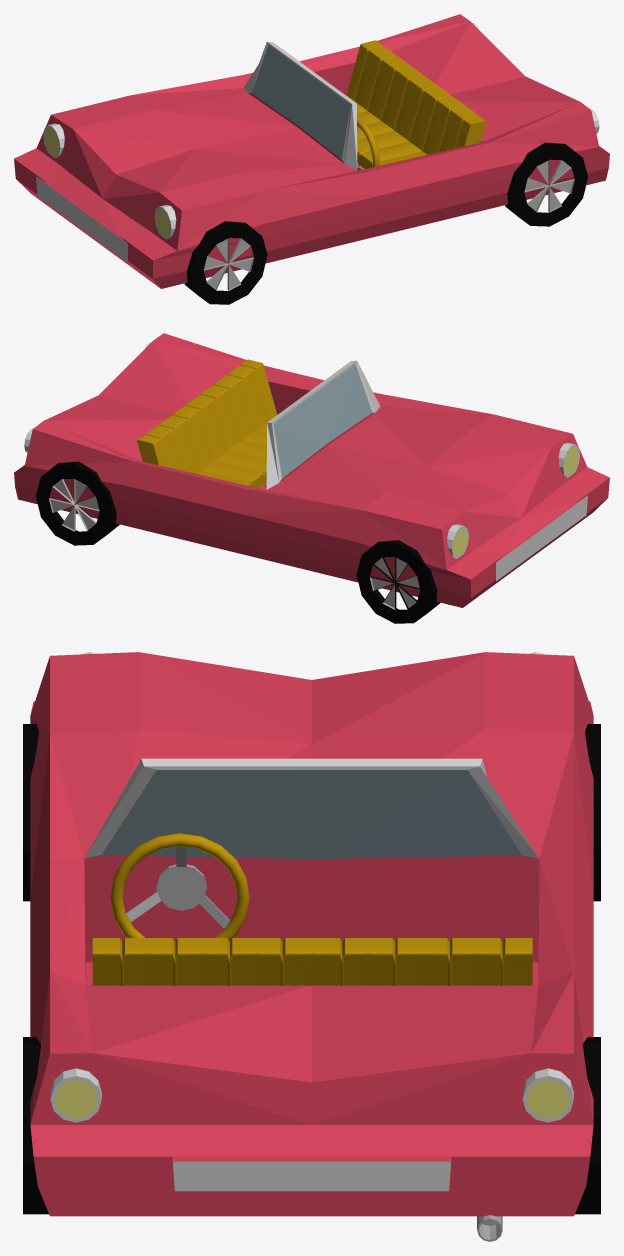
The model's file is car4.fbx.
3 views of the same model, one above another, from view 1: azimuth 30°, elevation 25°; view 2: azimuth 150°, elevation 25°; view 3: azimuth 270°, elevation 25° (orthographic). The views are drawn at different scales.
Parts seen in each view (by area): view 1: body, seatv3, seatv2, wheel2, wheel1, light1, light, pCylinder2; view 2: body, seatv2, seatv3, wheel2, wheel1, light, light1; view 3: body, seatv2, seatv3, pCylinder2, wheel2, wheel1, light2, light3.
Part boxes in pixels (x1,y1,x2,y2): body: (14,14,609,288); seatv3: (357,80,486,168); seatv2: (346,40,430,146); wheel2: (505,142,587,226); wheel1: (184,221,267,304); light1: (154,205,176,239); light: (43,123,64,158); pCylinder2: (357,119,379,170); body: (14,333,609,607); seatv2: (137,399,266,487); seatv3: (193,359,277,465); wheel2: (36,461,119,545); wheel1: (356,540,440,623); light: (447,524,468,558); light1: (558,443,579,477); body: (30,652,593,1216); seatv2: (312,938,532,985); seatv3: (92,938,312,985); pCylinder2: (110,833,249,940); wheel2: (23,1037,600,1214); wheel1: (23,724,600,901); light2: (50,1068,101,1122); light3: (522,1068,573,1122).
Bounding box in the file's own units: 10.18 × 2.98 × 5.5.
